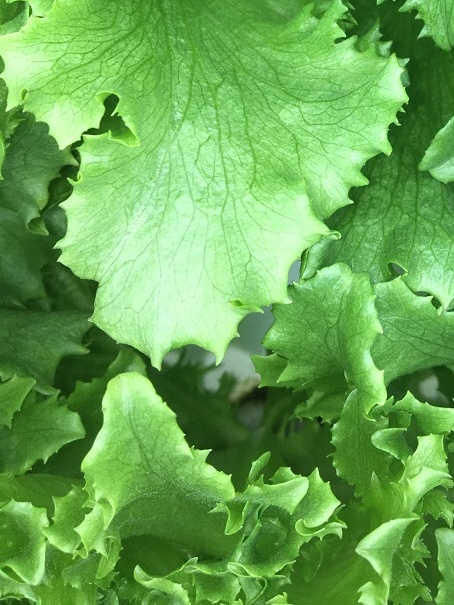tipburn: (96, 401, 110, 416)
